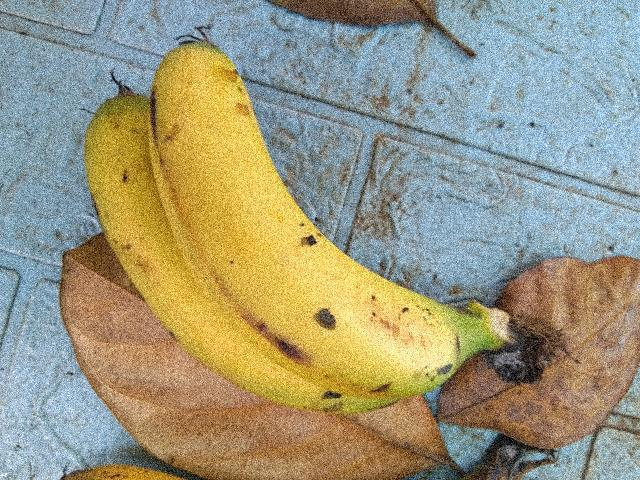freshripe: (81, 85, 312, 415)
ripe: (142, 32, 491, 423)
